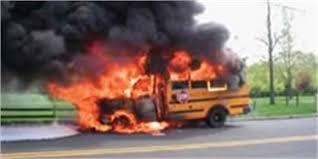fire: (45, 42, 229, 138)
